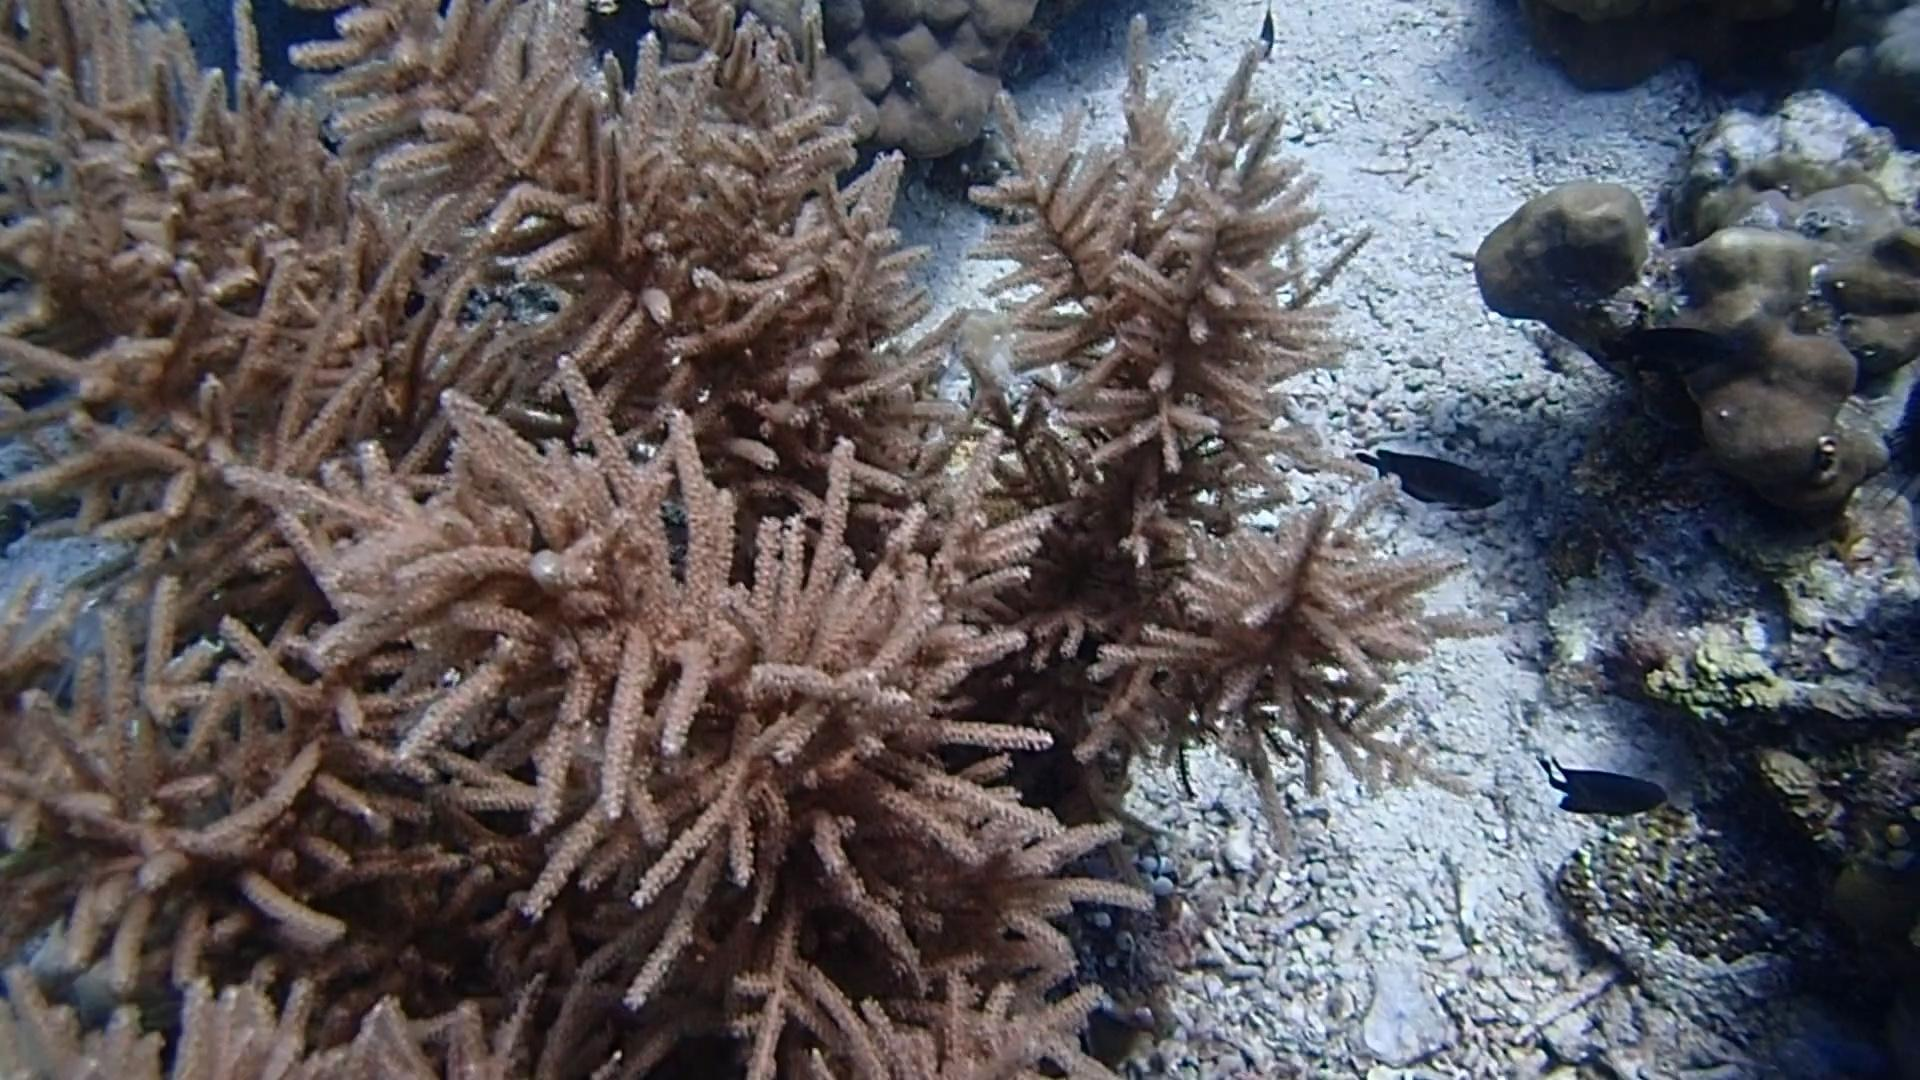Dark Fish: (1348, 434, 1515, 518), (1588, 316, 1743, 390), (1535, 750, 1677, 828)
Yellow Tail: (1250, 8, 1287, 65)
